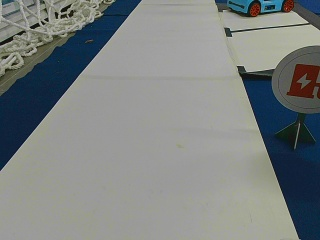battery: (274, 46, 319, 113)
car: (228, 1, 294, 16)
